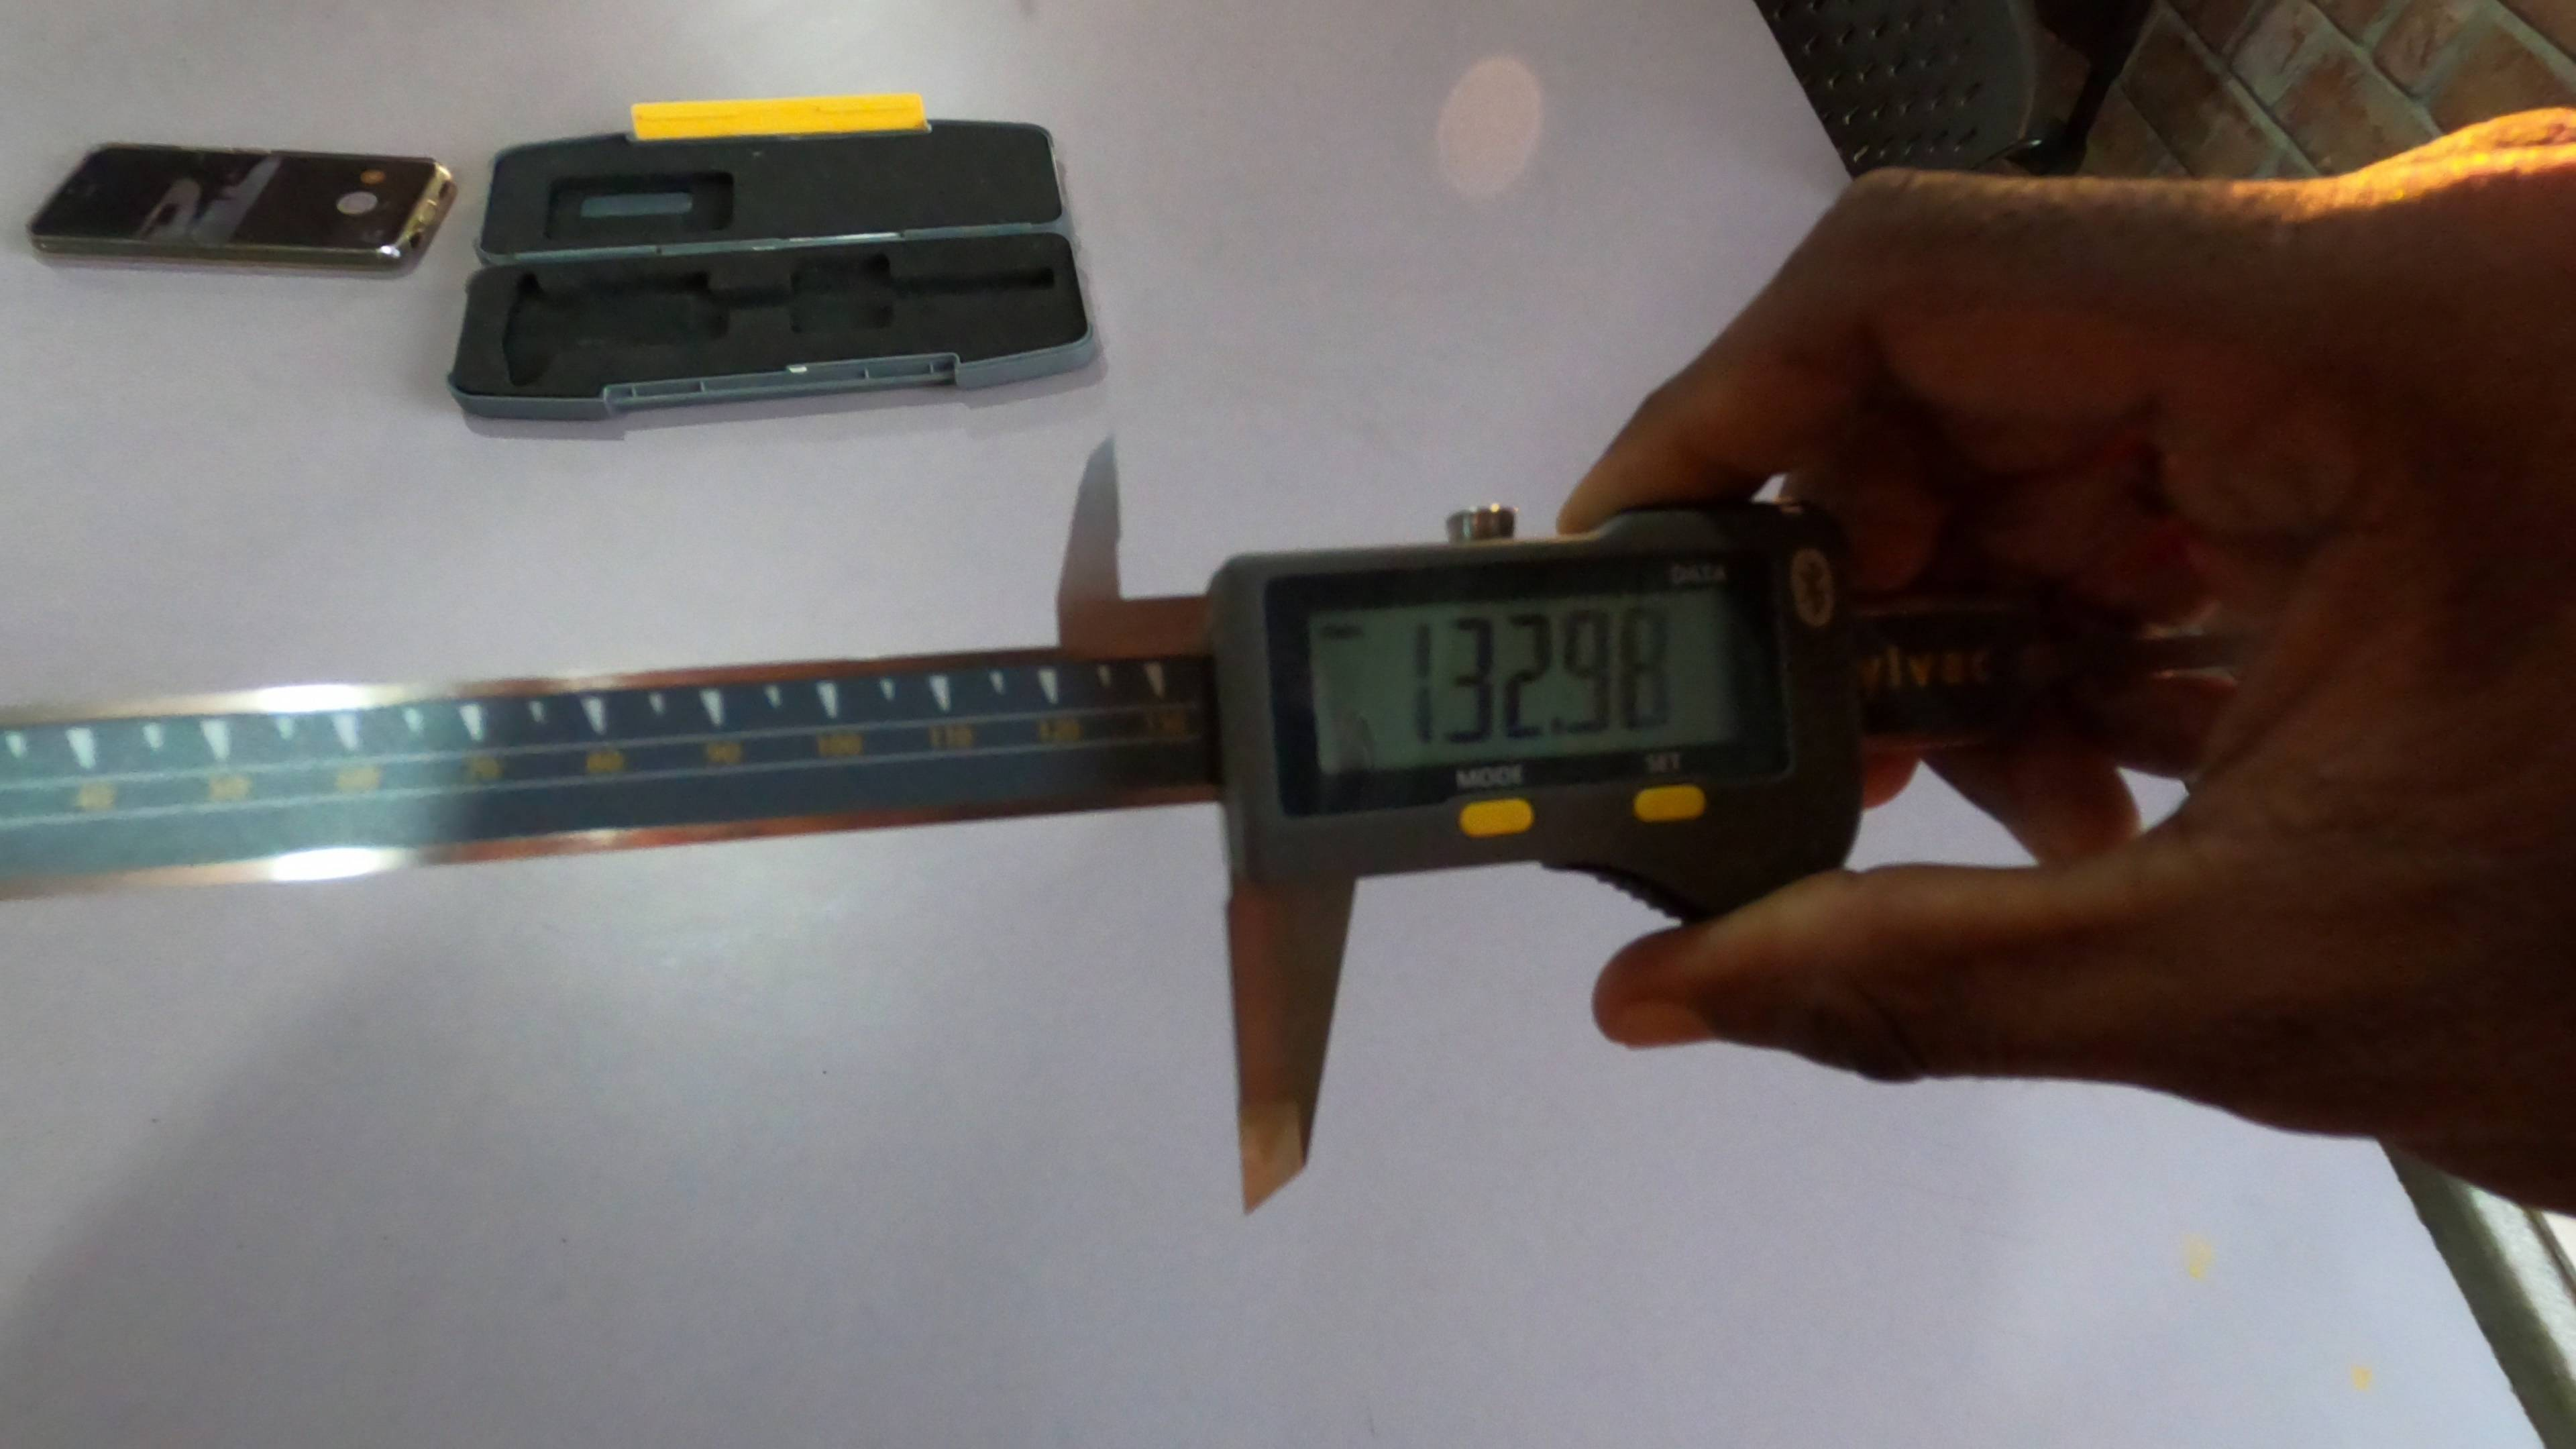vernier_caliper: (0, 410, 1875, 1304)
